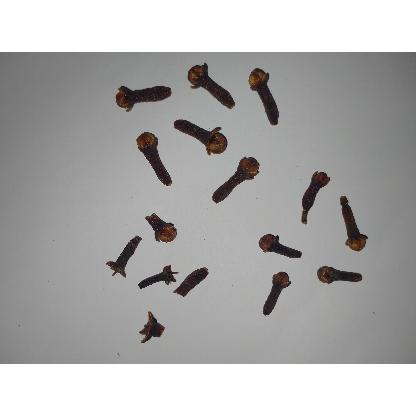baik: (212, 157, 262, 204), (185, 64, 235, 109), (173, 119, 229, 156), (136, 132, 172, 187), (248, 68, 279, 126), (114, 86, 172, 113)
buruk: (106, 236, 142, 279), (145, 213, 180, 245), (174, 268, 211, 298), (137, 265, 177, 290)
sedang: (301, 171, 332, 225), (341, 197, 368, 253), (262, 272, 292, 317), (258, 234, 303, 260), (316, 266, 363, 285)
